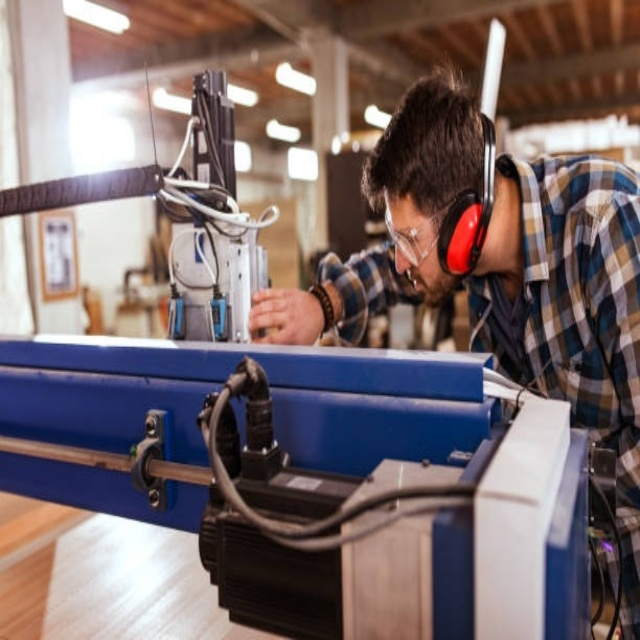Gafas: (383, 188, 452, 269)
Sin_guantes: (249, 284, 326, 346)
Sin_mascara: (396, 268, 436, 306)
